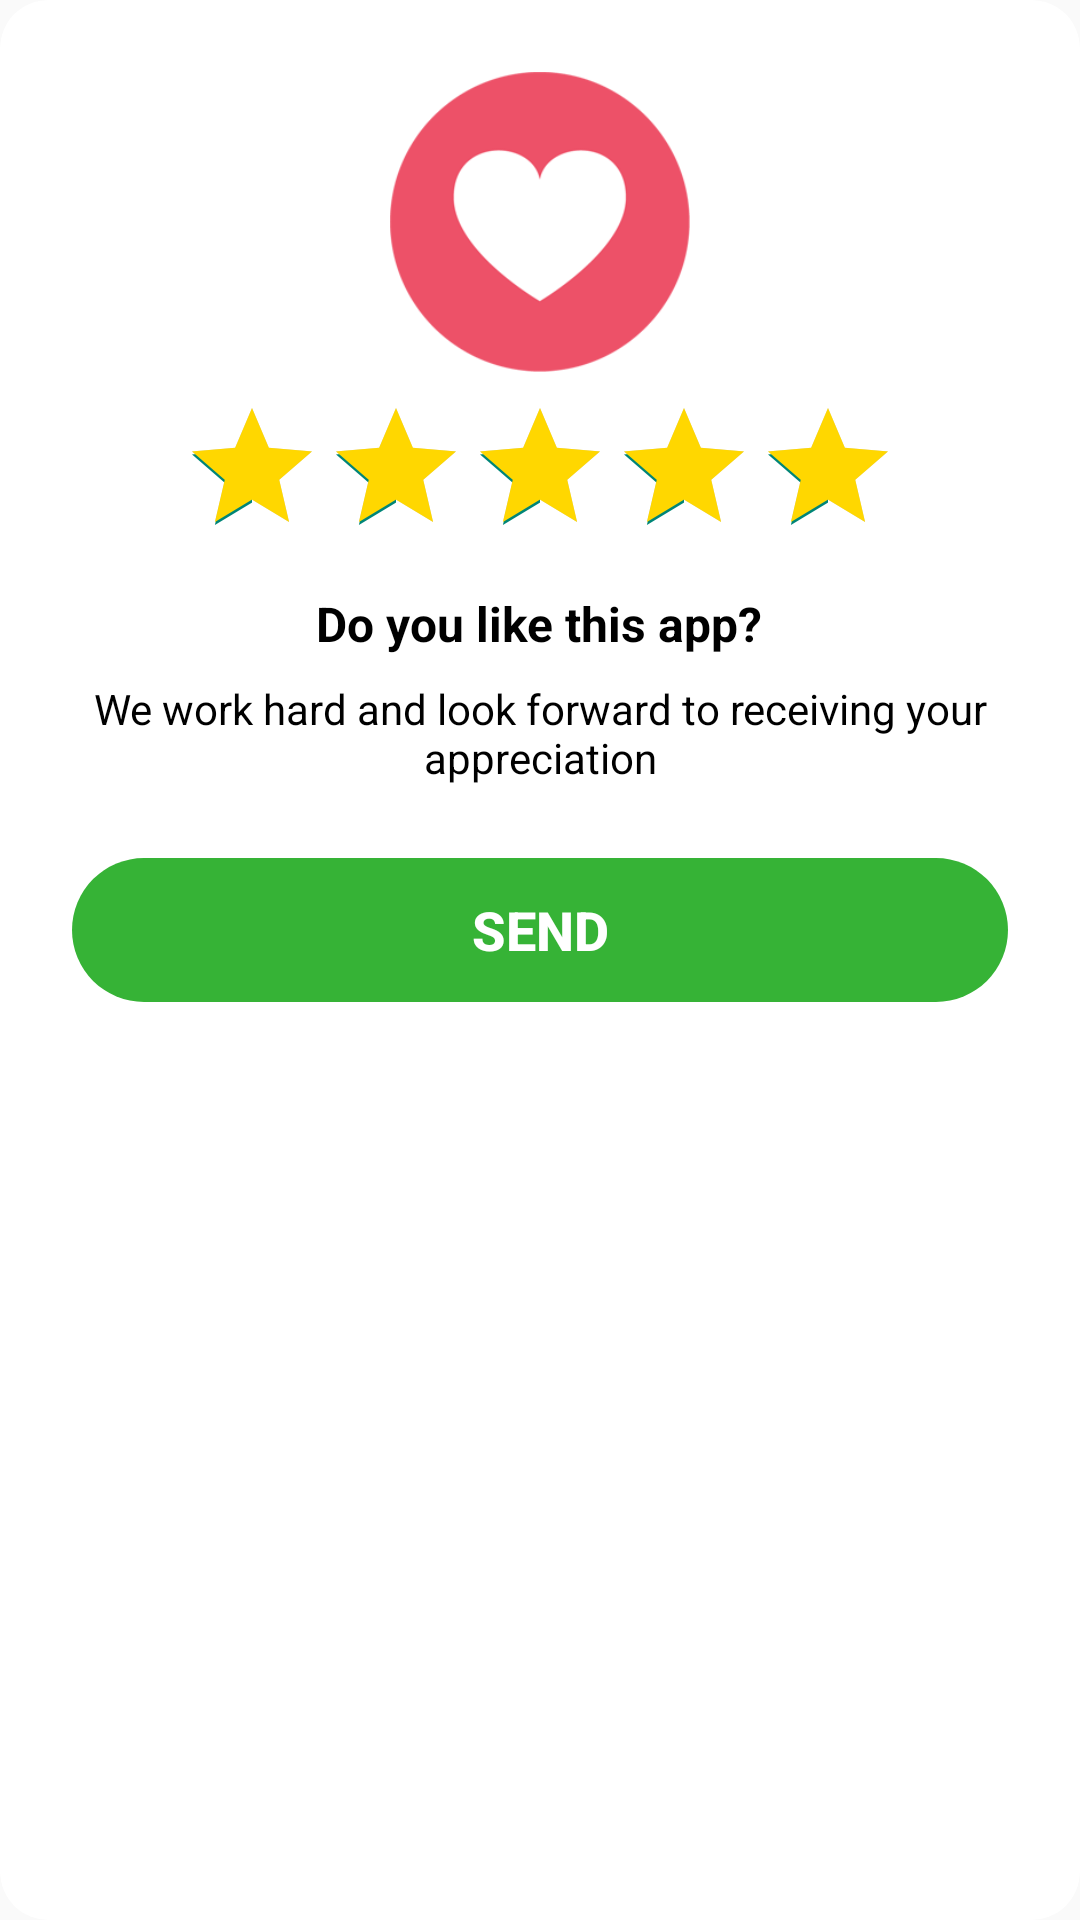

Point at icon controls on the screen. Image size 1080×1920, points as [x,y].
love: [540,222]
